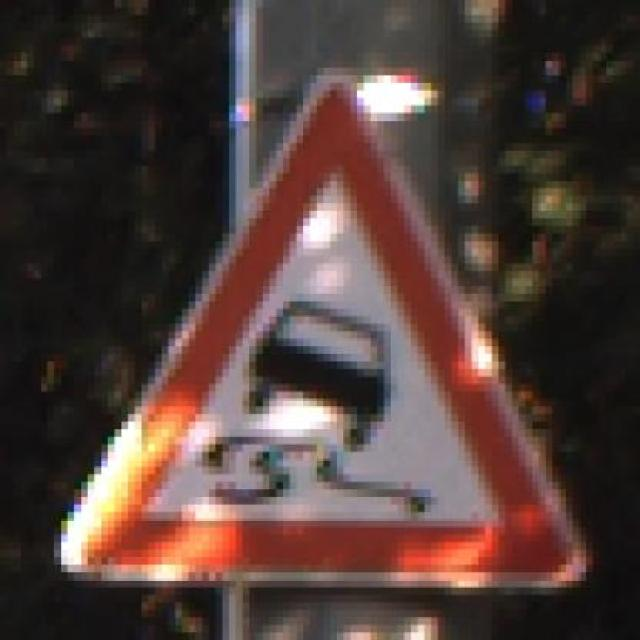Slippery Road Ahead: (47, 68, 599, 595)
